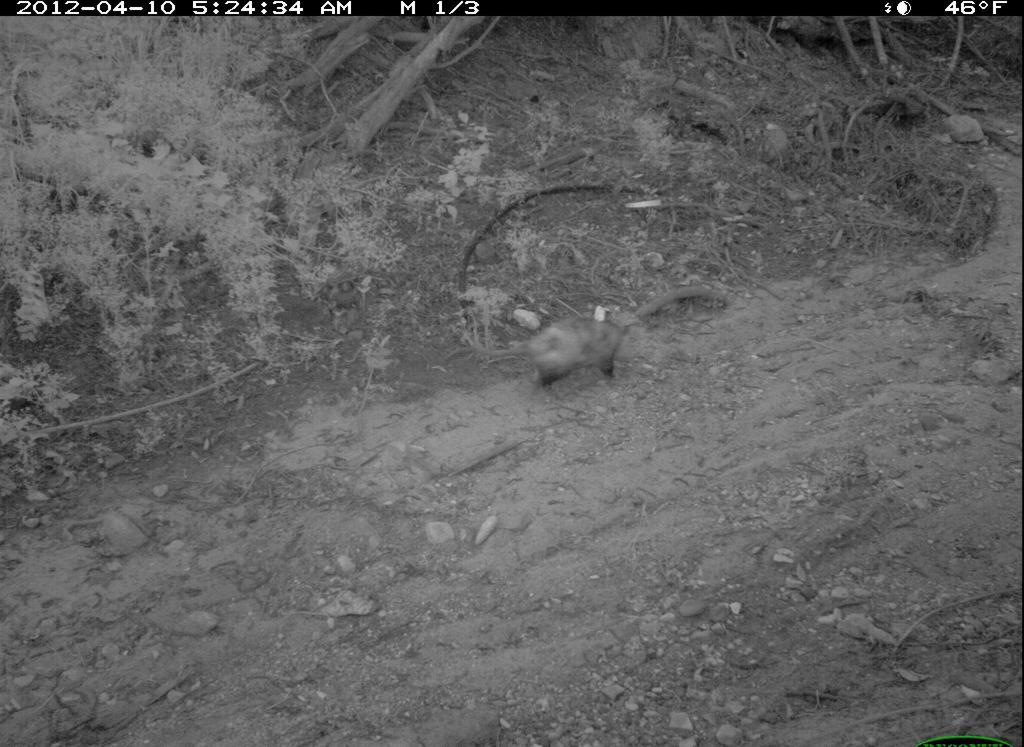opossum: (470, 309, 633, 399)
